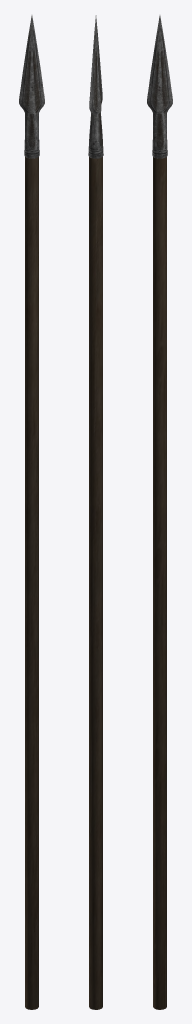
Rendered from spear.glb.
3 renders of one model, left to right at view 1: azimuth 90°, elevation 25°; view 2: azimuth 150°, elevation 25°; view 3: azimuth 270°, elevation 25°, orthographic.
Visible parts, largest first — view 1: Spear; view 2: Spear; view 3: Spear.
Part boxes in pixels (left/top/right/bottom): Spear: left=19, top=15, right=44, bottom=1009; Spear: left=88, top=15, right=103, bottom=1009; Spear: left=147, top=15, right=172, bottom=1009.
Bounding box in the file's own units: 0.0135 × 1 × 0.0239.
1 material, 1 textured.
